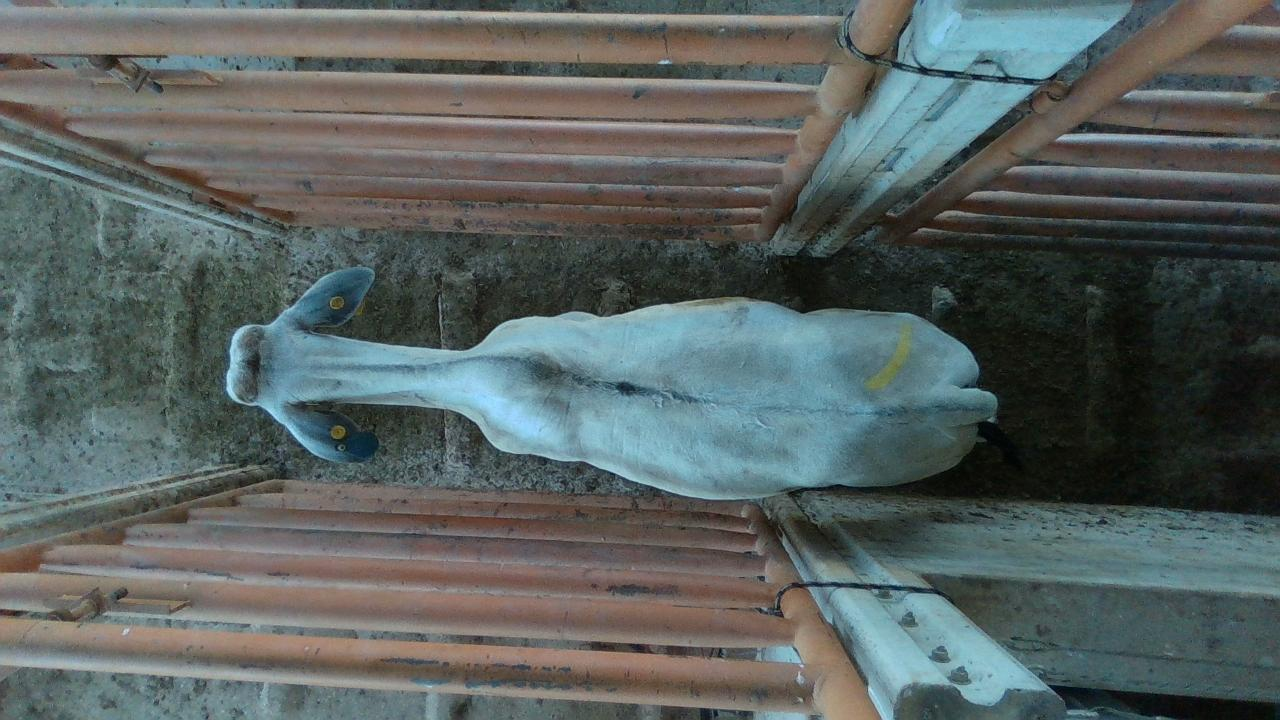cattle: (224, 264, 1002, 502)
